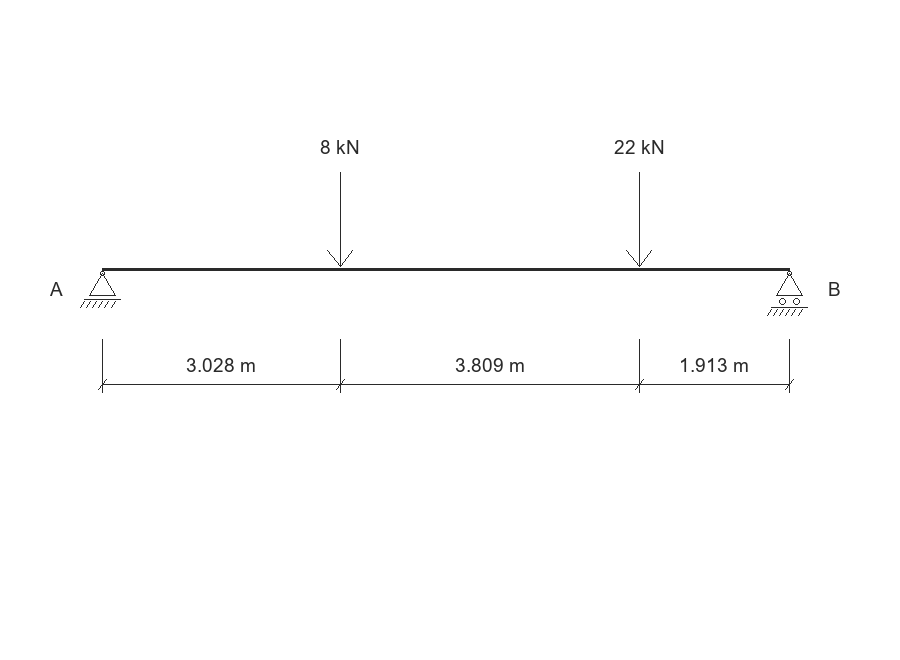pin_support: (80, 271, 121, 308)
point_load: (327, 172, 353, 267), (626, 172, 652, 267)
roller_support: (767, 271, 808, 316)
